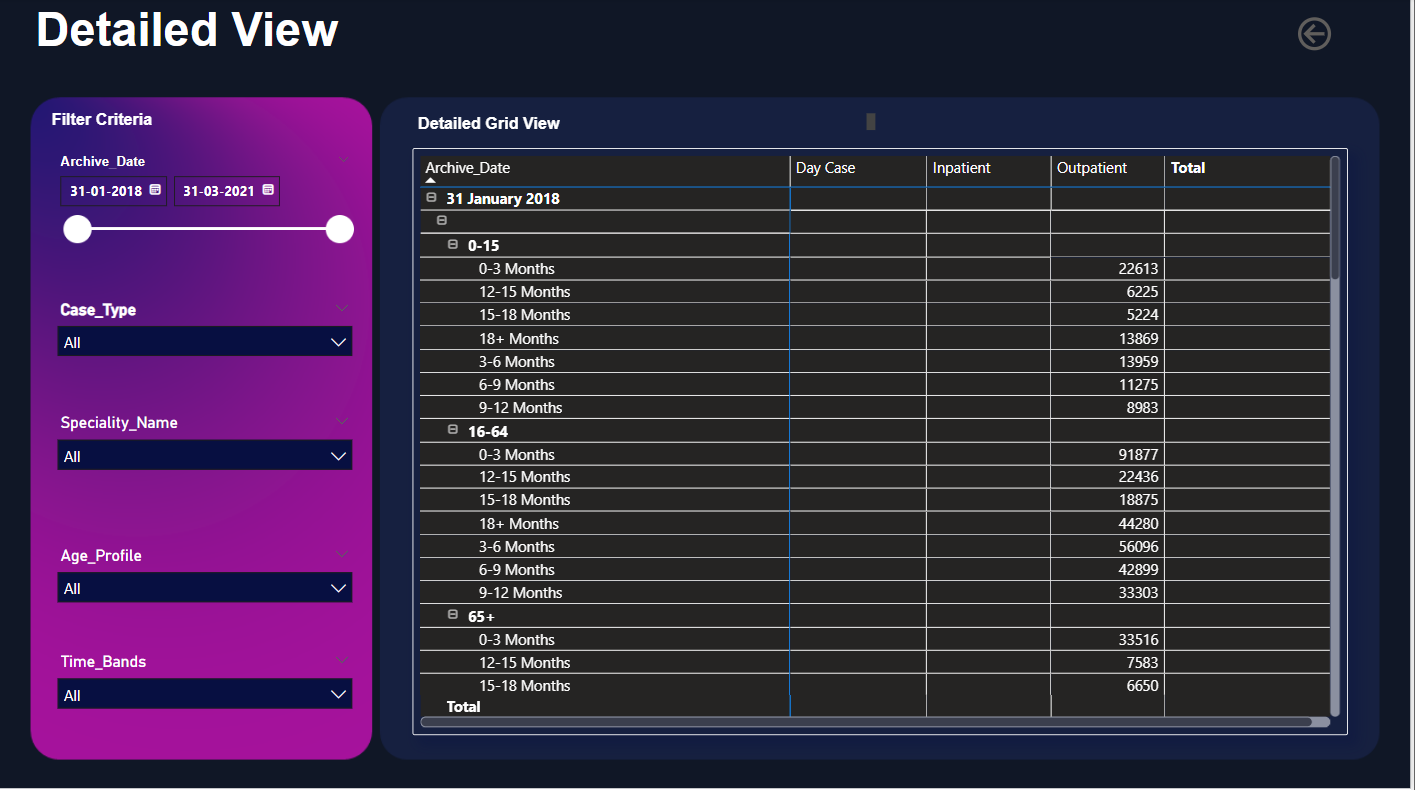

This screenshot's page, from the dashboard's own definition file:
{"tool":"powerbi","page":{"name":"Details","canvas":[1280,720],"ordinal":1},"visuals":[{"type":"slicer","fields":{"Values":["All_Data.Case_Type"]},"box":[42.5,268.8,287.5,80],"z":0},{"type":"slicer","fields":{"Values":["All_Data.Archive_Date"]},"box":[42.5,136.2,287.5,96.2],"z":1000},{"type":"slicer","fields":{"Values":["All_Data.Speciality_Name"]},"box":[42.5,372.5,287.5,80],"z":2000},{"type":"textbox","box":[27.5,0,500,63.8],"z":3000},{"type":"slicer","fields":{"Values":["All_Data.Age_Profile"]},"box":[42.5,492.5,287.5,96.2],"z":4000},{"type":"slicer","fields":{"Values":["All_Data.Time_Bands"]},"box":[42.5,588.8,287.5,80],"z":5000},{"type":"pivotTable","fields":{"Rows":["All_Data.Archive_Date","All_Data.Specialty_Name","All_Data.Age_Profile","All_Data.Time_Bands"],"Columns":["All_Data.Case_Type"],"Values":["Sum(All_Data.Total)"]},"box":[373.8,136.2,848.8,532.5],"z":6000},{"type":"textbox","box":[42.5,96.2,143.8,28.8],"z":7000},{"type":"textbox","box":[373.8,100,425,25],"z":8000},{"type":"actionButton","box":[1172.5,12.5,100,40],"z":9000}]}

Visuals, with their boxes in screenshot pixels (x1, y1, x2, y2), scaled from the page's 1280x720 canvas onto the 1415x790 screenshot:
slicer - All_Data.Case_Type: {"left": 47, "top": 295, "right": 365, "bottom": 383}
slicer - All_Data.Archive_Date: {"left": 47, "top": 149, "right": 365, "bottom": 255}
slicer - All_Data.Speciality_Name: {"left": 47, "top": 409, "right": 365, "bottom": 496}
textbox: {"left": 30, "top": 0, "right": 583, "bottom": 70}
slicer - All_Data.Age_Profile: {"left": 47, "top": 540, "right": 365, "bottom": 646}
slicer - All_Data.Time_Bands: {"left": 47, "top": 646, "right": 365, "bottom": 734}
pivotTable - All_Data.Archive_Date x All_Data.Specialty_Name: {"left": 413, "top": 149, "right": 1352, "bottom": 734}
textbox: {"left": 47, "top": 106, "right": 206, "bottom": 137}
textbox: {"left": 413, "top": 110, "right": 883, "bottom": 137}
actionButton: {"left": 1296, "top": 14, "right": 1407, "bottom": 58}
